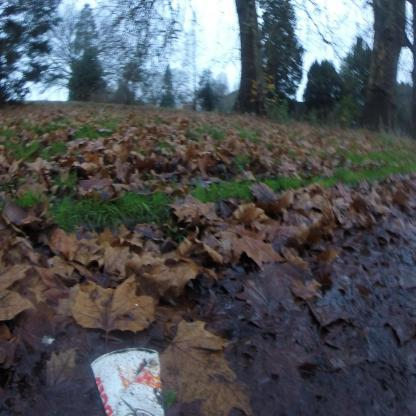karton: (92, 347, 169, 416)
